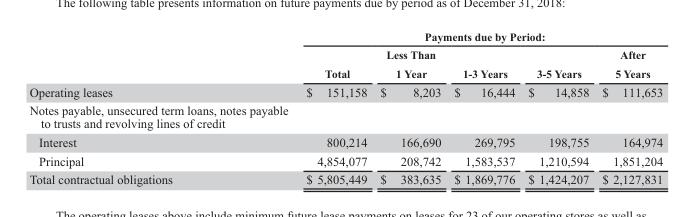table: (28, 29, 662, 186)
table column: (28, 29, 238, 186), (238, 29, 373, 186), (373, 29, 447, 186), (520, 29, 594, 186), (447, 29, 520, 186), (594, 29, 662, 186)
table column header: (28, 29, 662, 82)
table projected row header: (28, 100, 662, 132)
table row: (28, 45, 662, 82), (28, 100, 662, 132), (28, 150, 662, 169), (28, 82, 662, 100), (28, 132, 662, 150), (28, 169, 662, 186), (28, 29, 662, 45)
table spanning cell: (238, 29, 662, 45)
